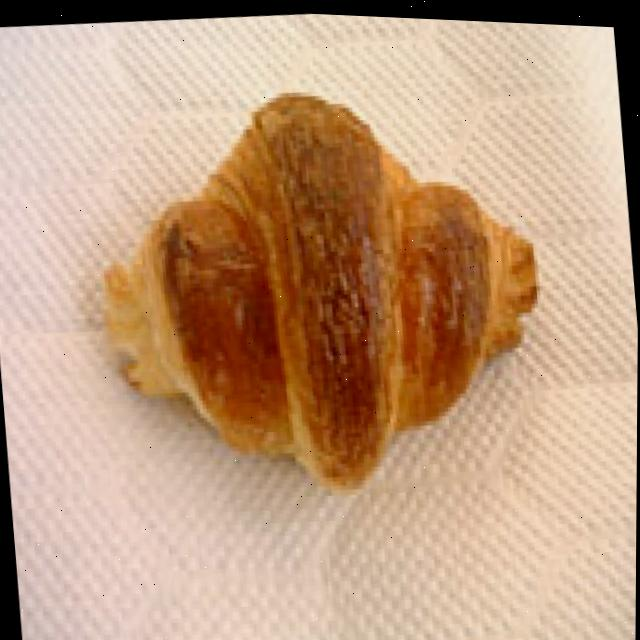面包点心: (64, 20, 587, 555)
